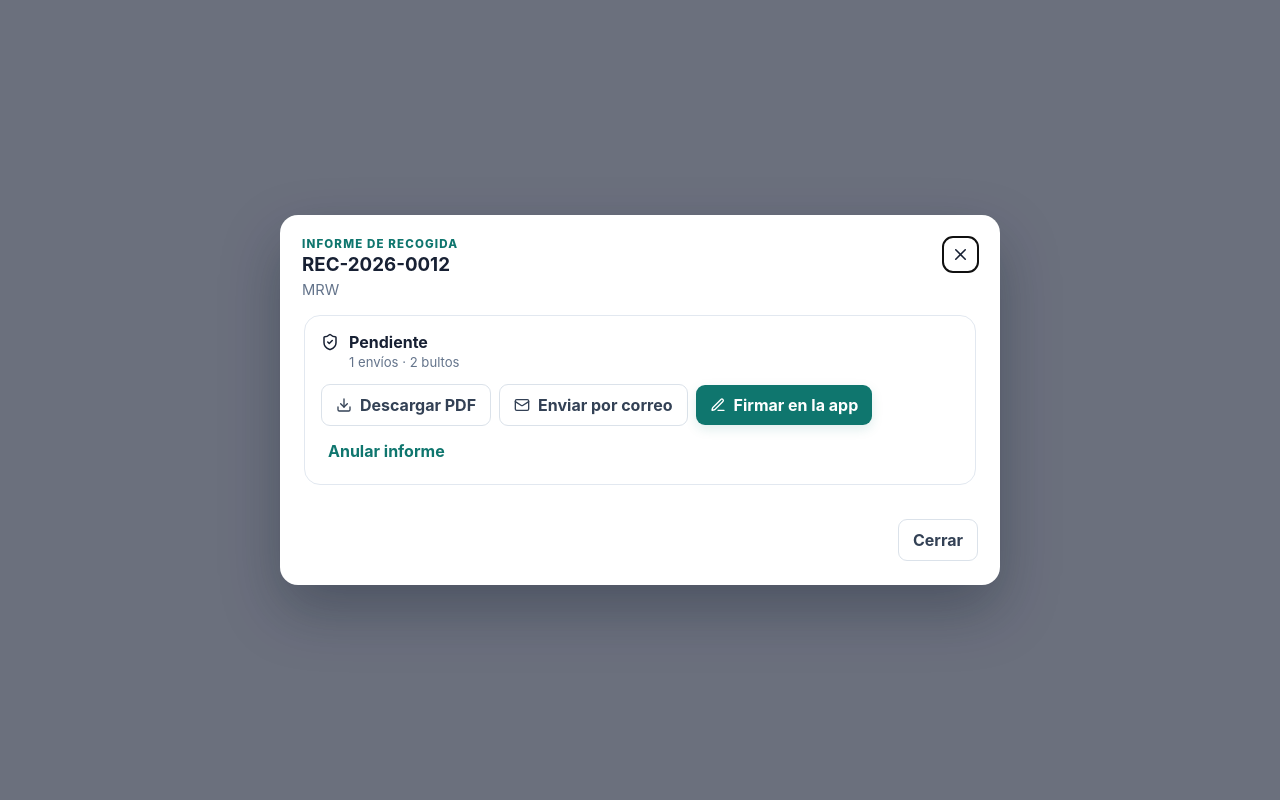
supports email for unsigned reports, requires an explicit send and preserves uncertain results without automatic resend
Click the button "Enviar por correo".
click(593, 405)  # box [499, 384, 688, 426]
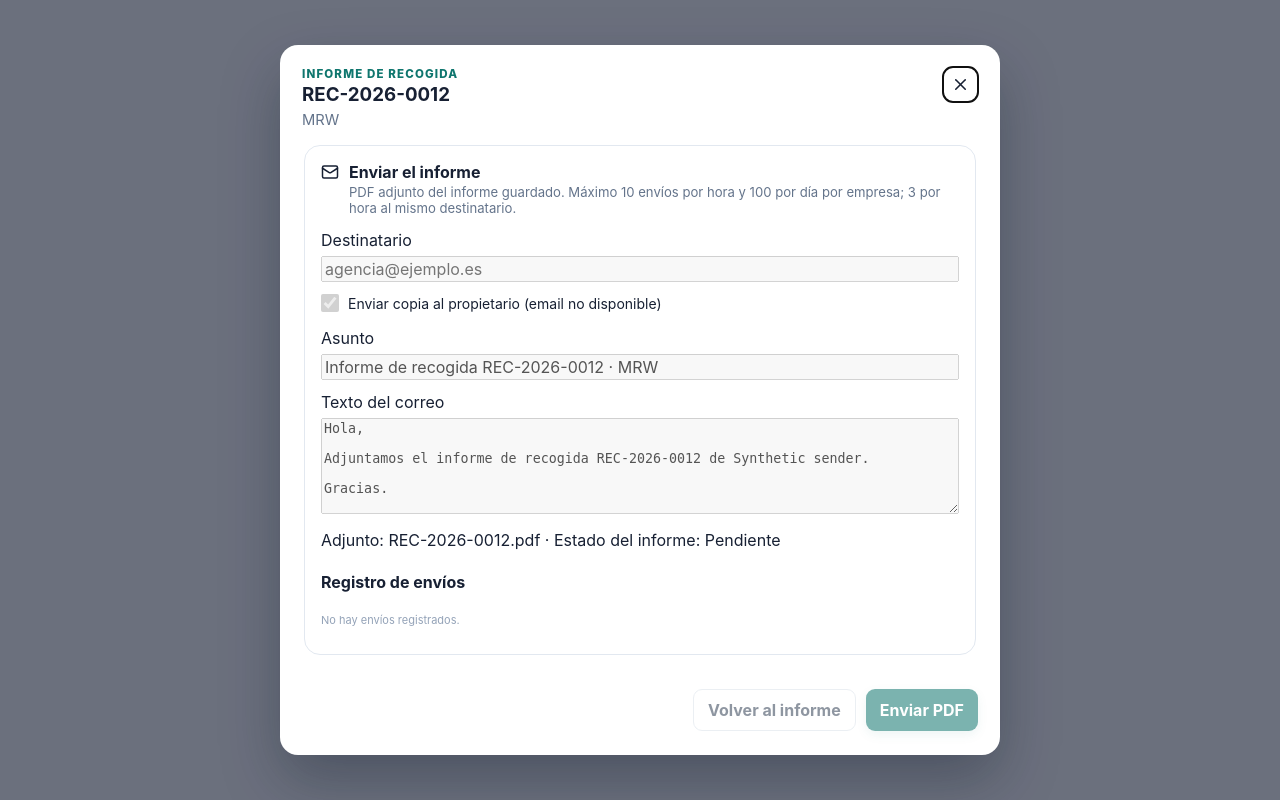
Type "driver@example.test" into the field labelled "Destinatario".
click(640, 269); type("driver@example.test")  # box [321, 256, 959, 282]
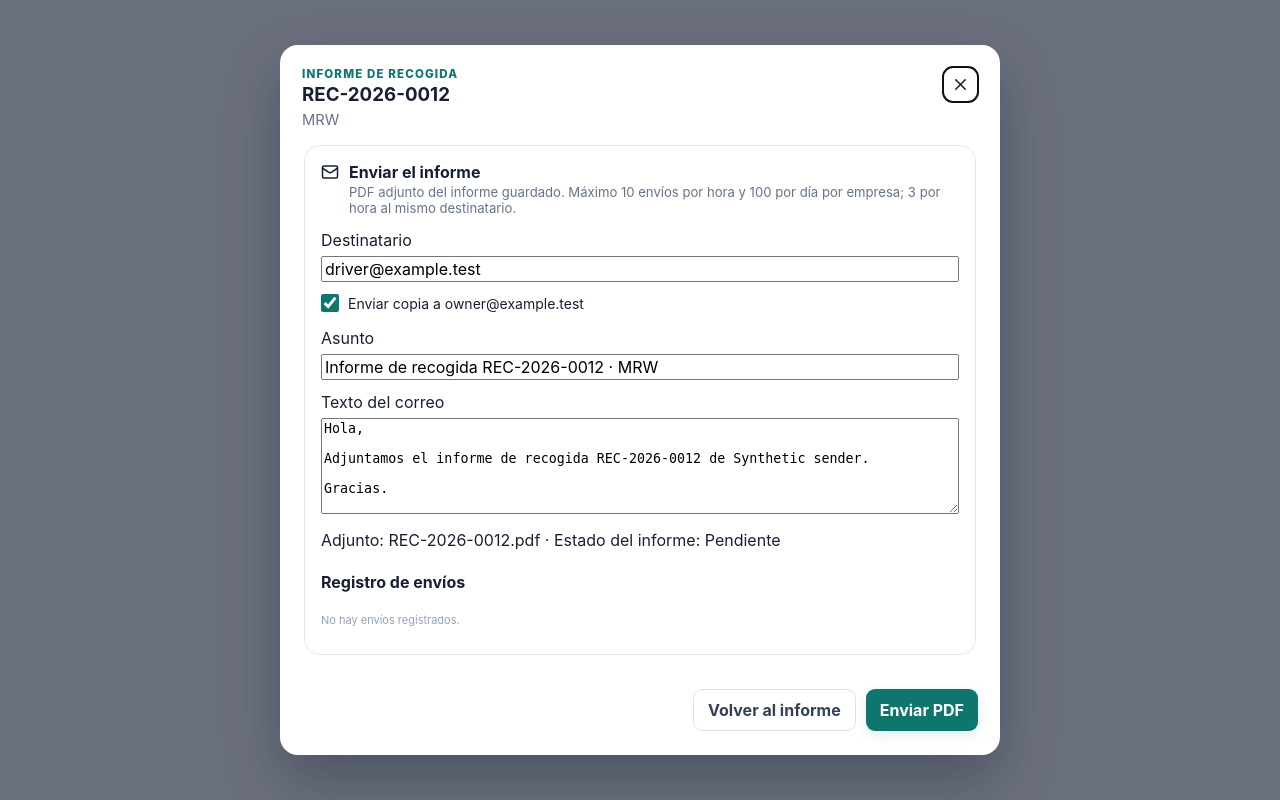
expect the button "Enviar PDF" is enabled: met
Click the button "Enviar PDF".
click(922, 710)  # box [866, 689, 978, 731]
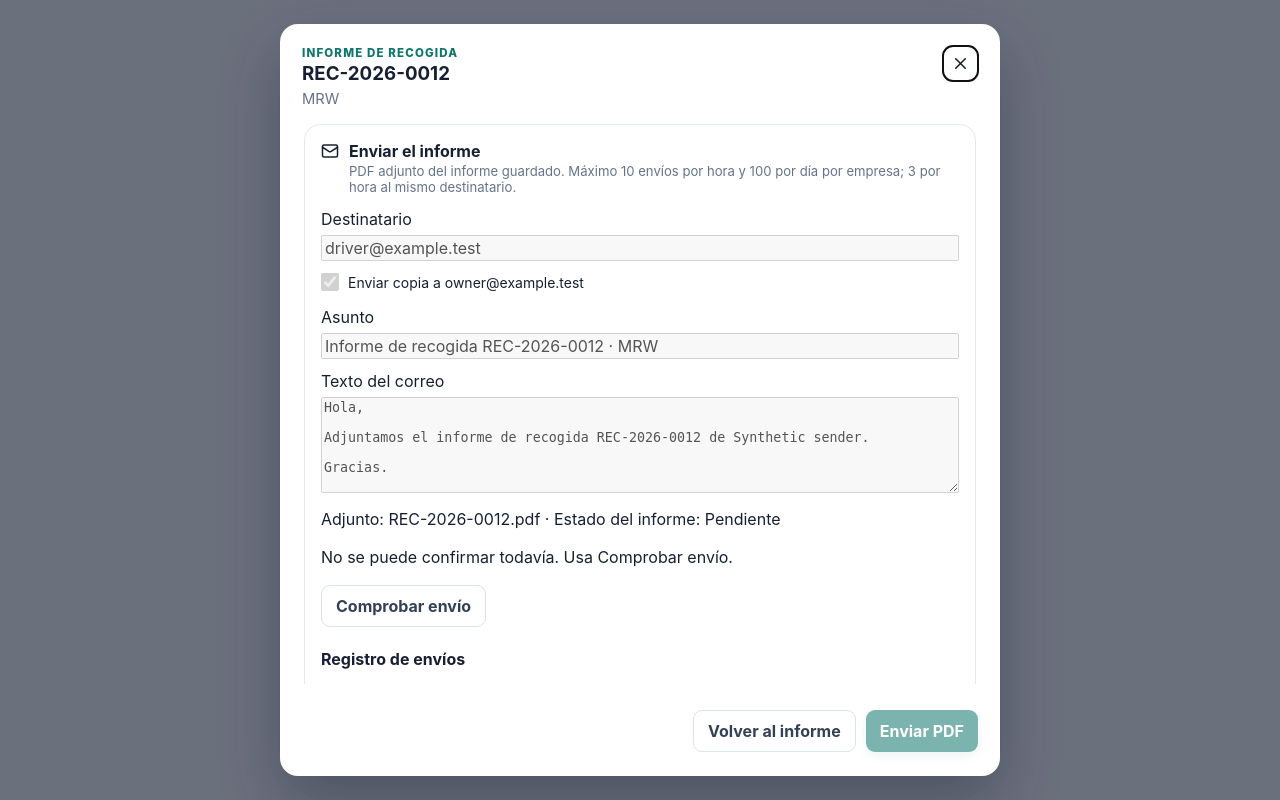
expect the text "No se puede confirmar todavía. Usa Comprobar envío." is shown: met, box [321, 547, 733, 567]
expect the button "Enviar PDF" is disabled: met, box [866, 710, 978, 752]
